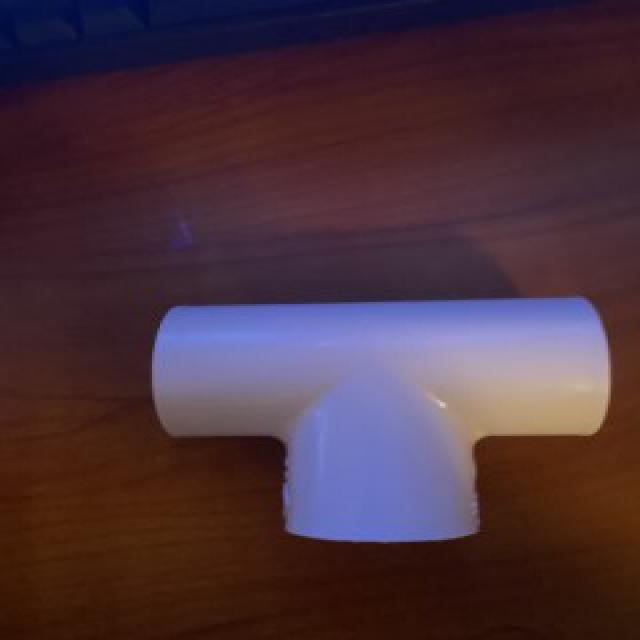T Joint: (152, 297, 612, 544)
